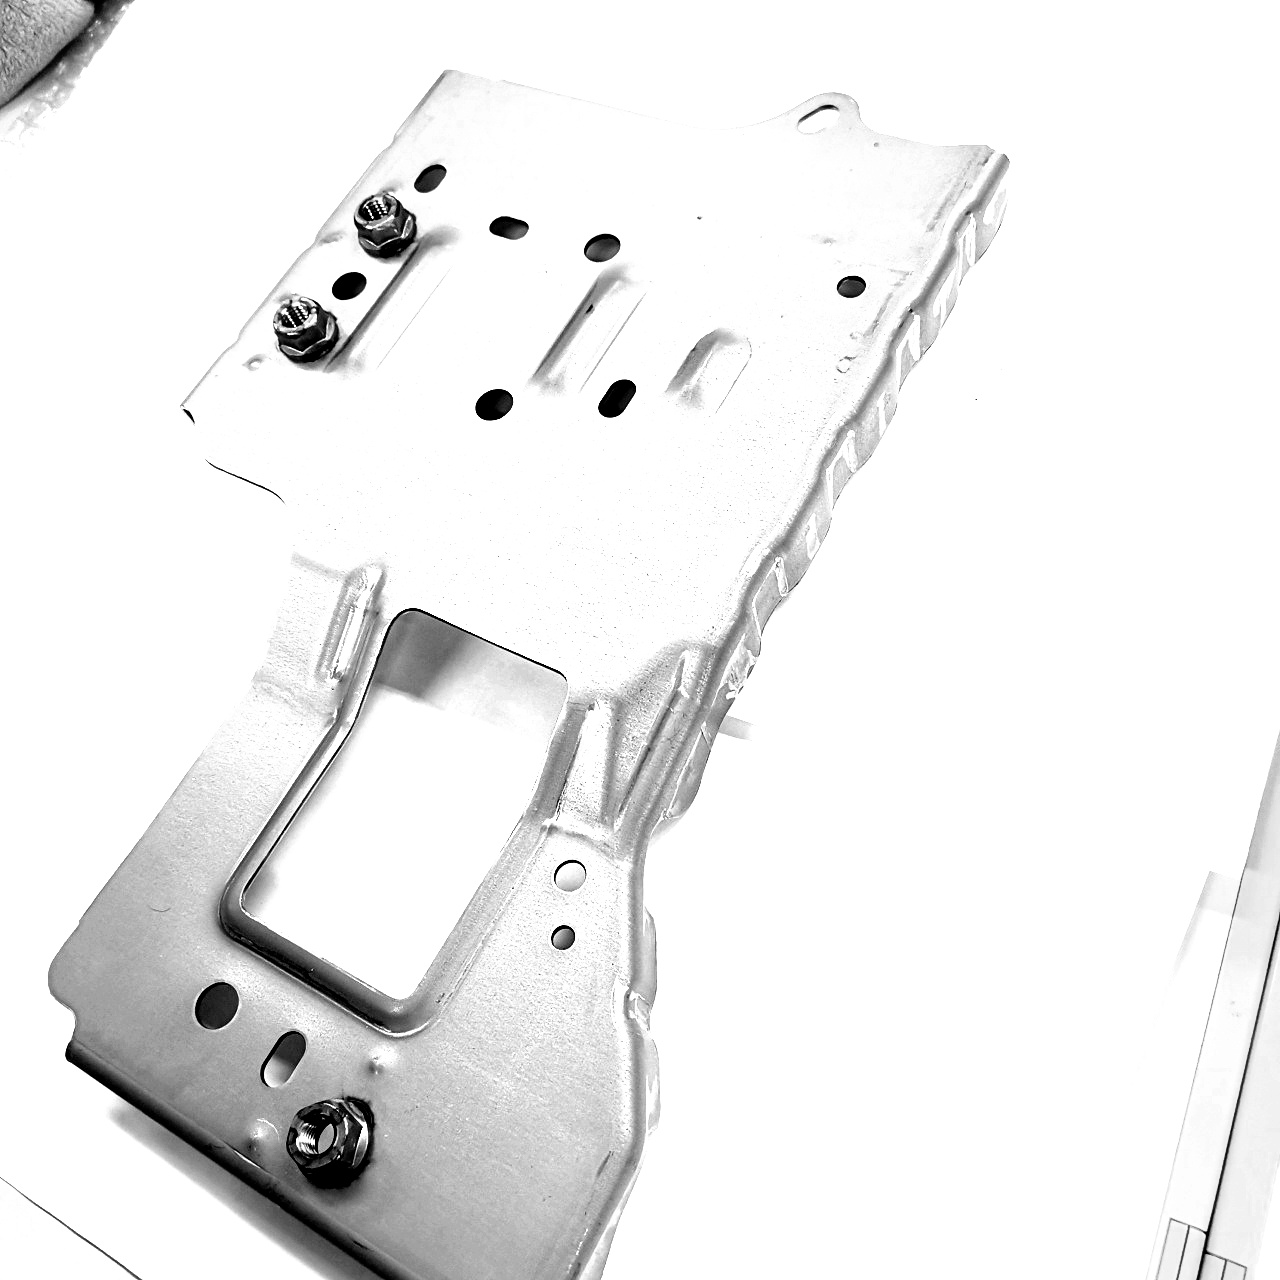dog: (281, 1091, 381, 1192), (270, 292, 342, 369), (352, 188, 422, 266)
